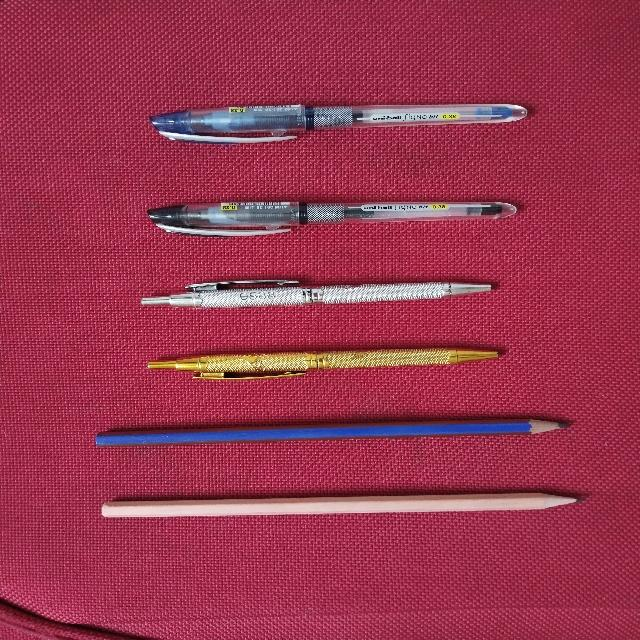pen: (150, 104, 526, 143), (148, 202, 515, 235)
pencil: (95, 419, 568, 446), (102, 493, 576, 517)
signature pen: (148, 349, 498, 379), (141, 280, 490, 307)
